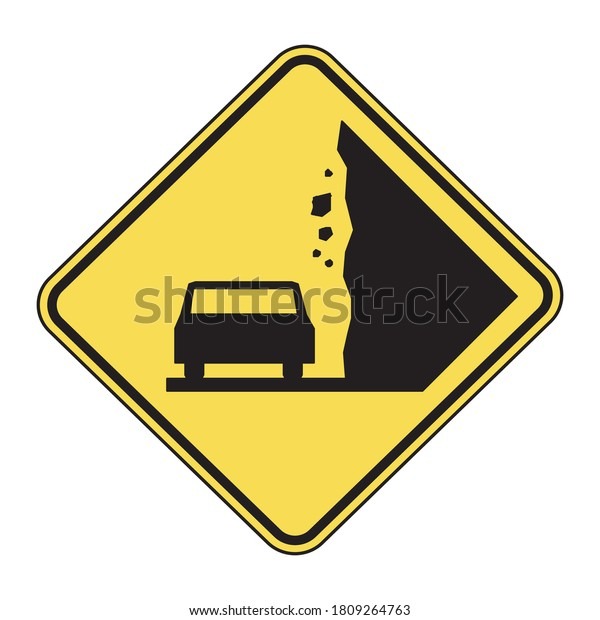FallenSign: (32, 43, 570, 559)
